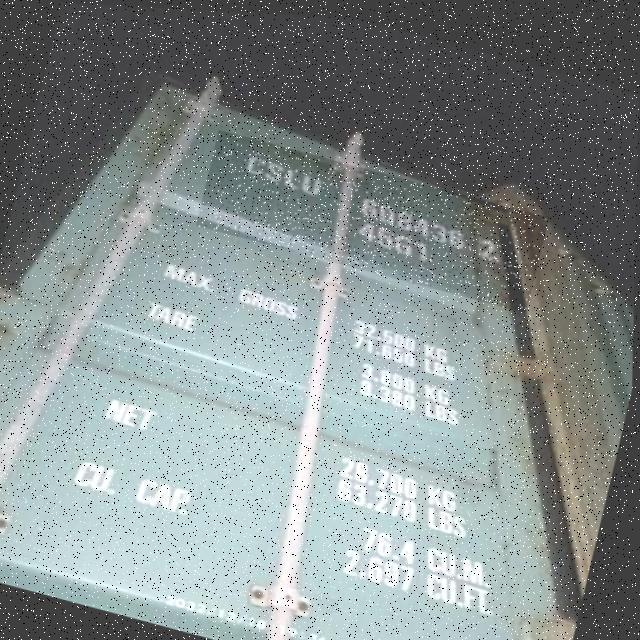container_number_h: (196, 126, 550, 308)
